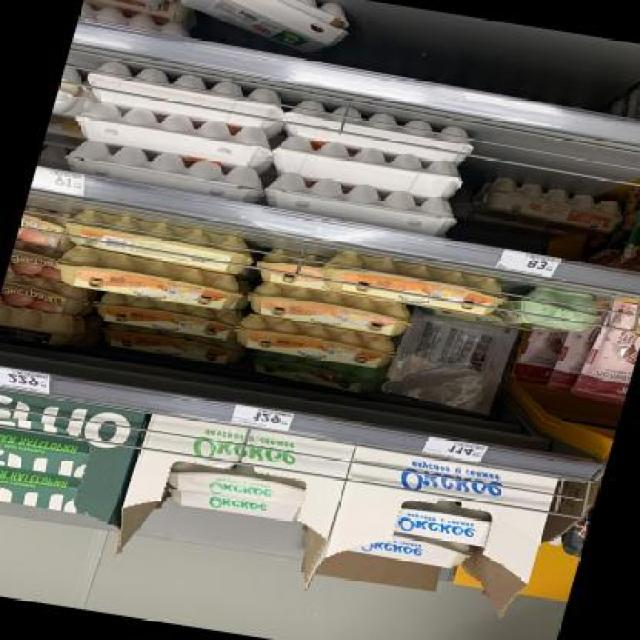egg: (308, 249, 514, 322), (50, 245, 247, 318), (239, 278, 418, 340), (227, 311, 402, 371), (469, 176, 628, 238), (158, 455, 316, 511), (86, 288, 237, 341), (572, 296, 640, 406), (94, 320, 246, 368), (342, 523, 481, 575), (242, 348, 388, 397), (158, 487, 306, 530), (390, 495, 496, 548), (0, 270, 100, 320), (0, 303, 89, 354), (507, 323, 575, 389), (518, 284, 600, 332), (15, 205, 77, 250), (6, 239, 63, 281), (620, 156, 640, 272)
